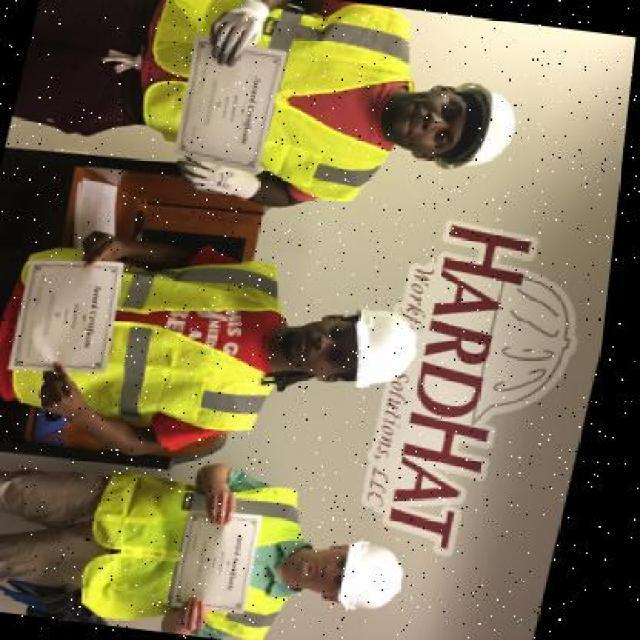helmet: (436, 66, 550, 194), (321, 523, 429, 635), (337, 296, 436, 407)
vest: (109, 0, 435, 217), (2, 231, 311, 459), (59, 466, 342, 638)
